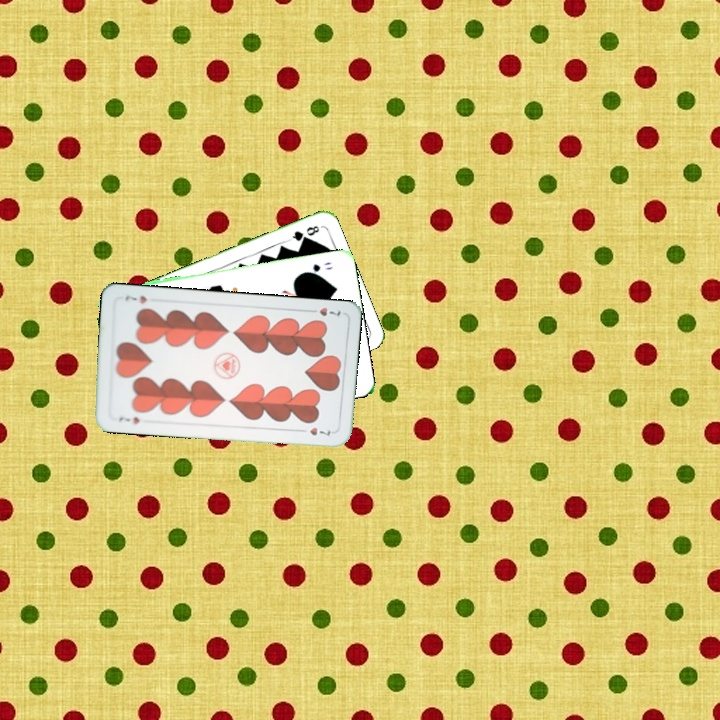G8: (284, 222, 322, 244)
GO: (299, 258, 336, 277)
H7: (304, 303, 343, 319), (115, 412, 142, 427)
